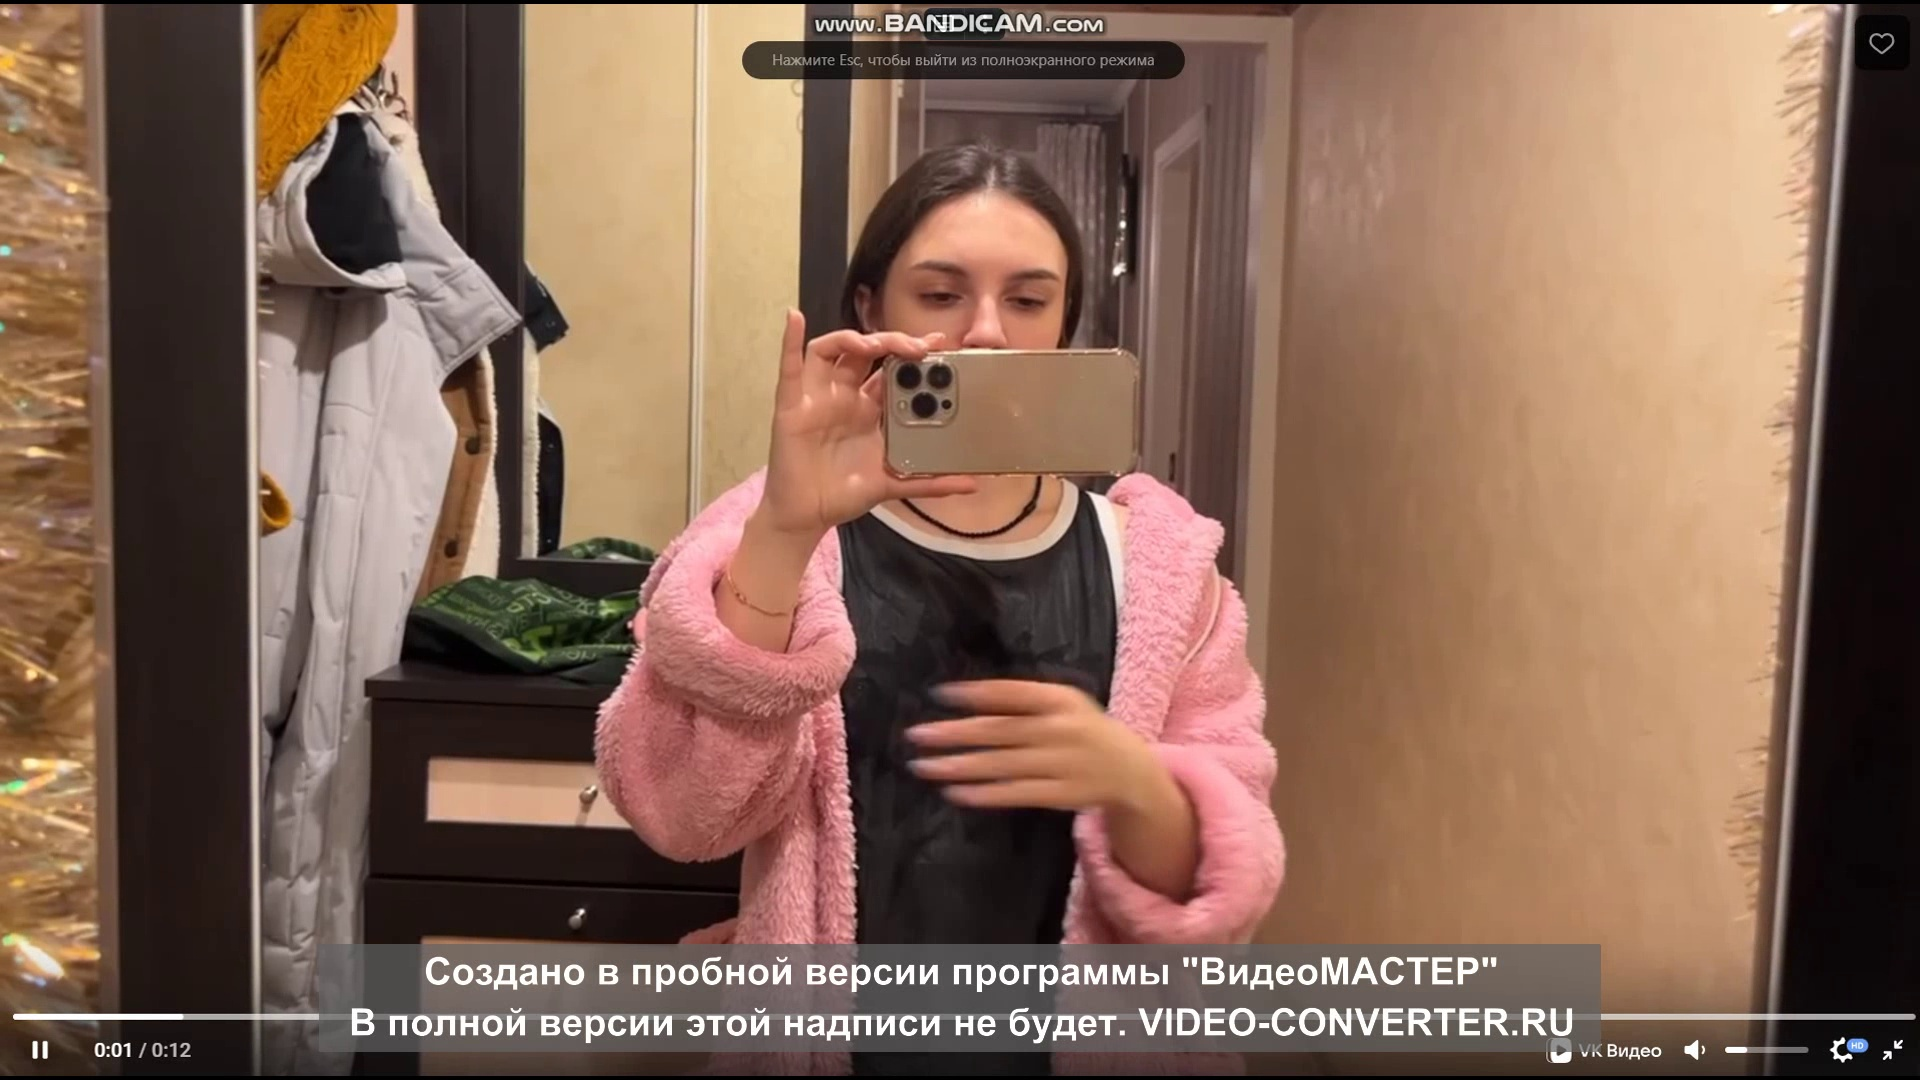Кисть: (906, 678, 1125, 806)
